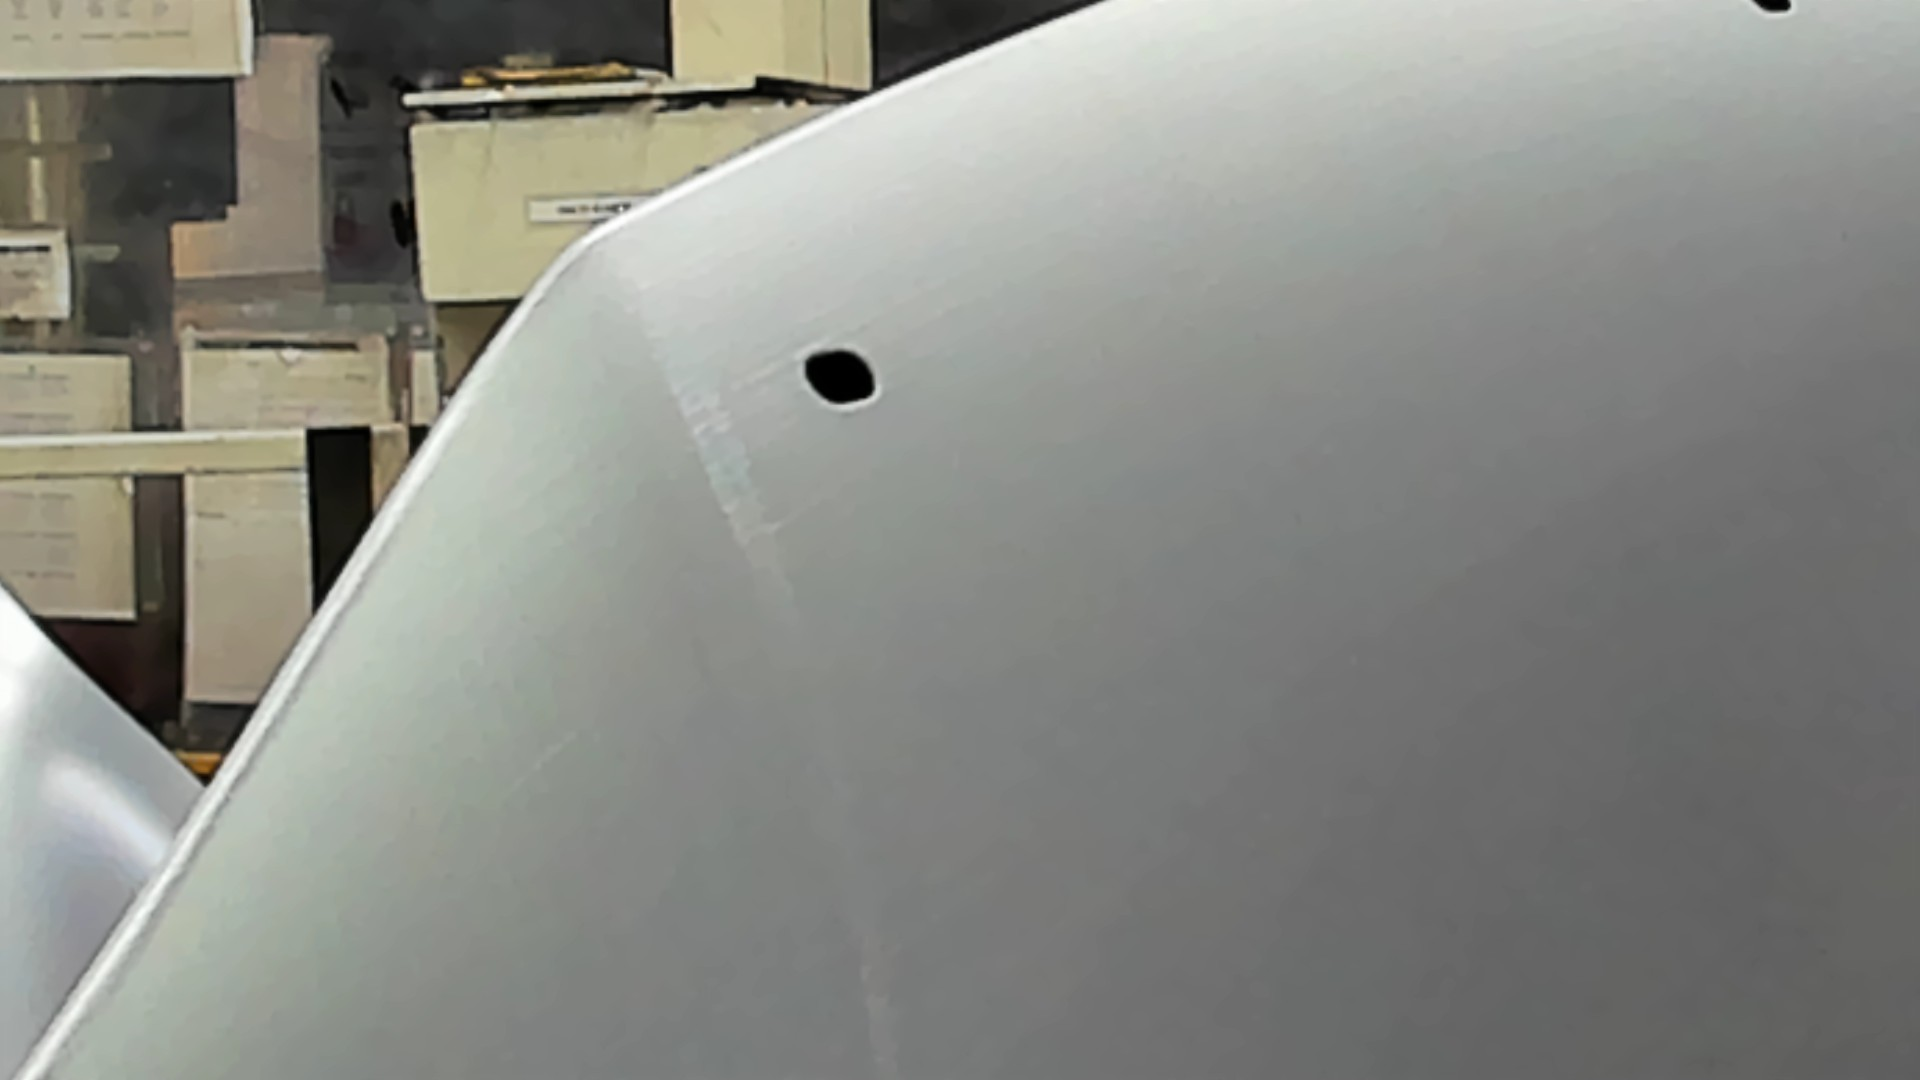amorfo: (796, 342, 882, 413)
capo: (934, 105, 1920, 1080)
